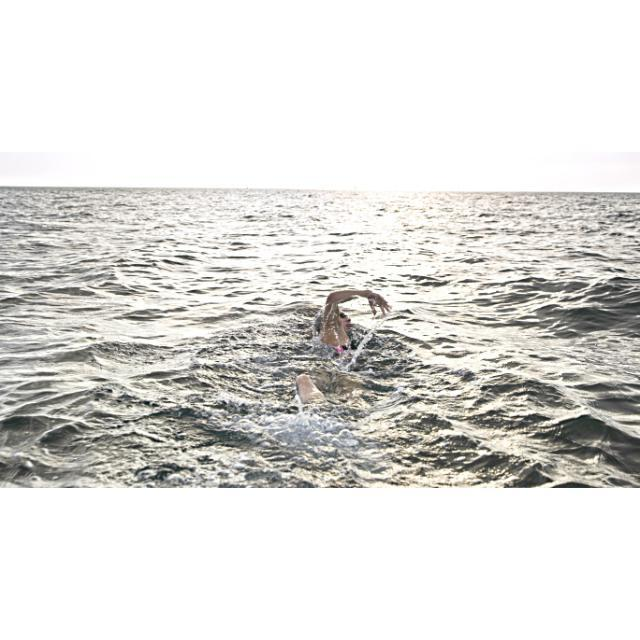human: (298, 288, 393, 408)
